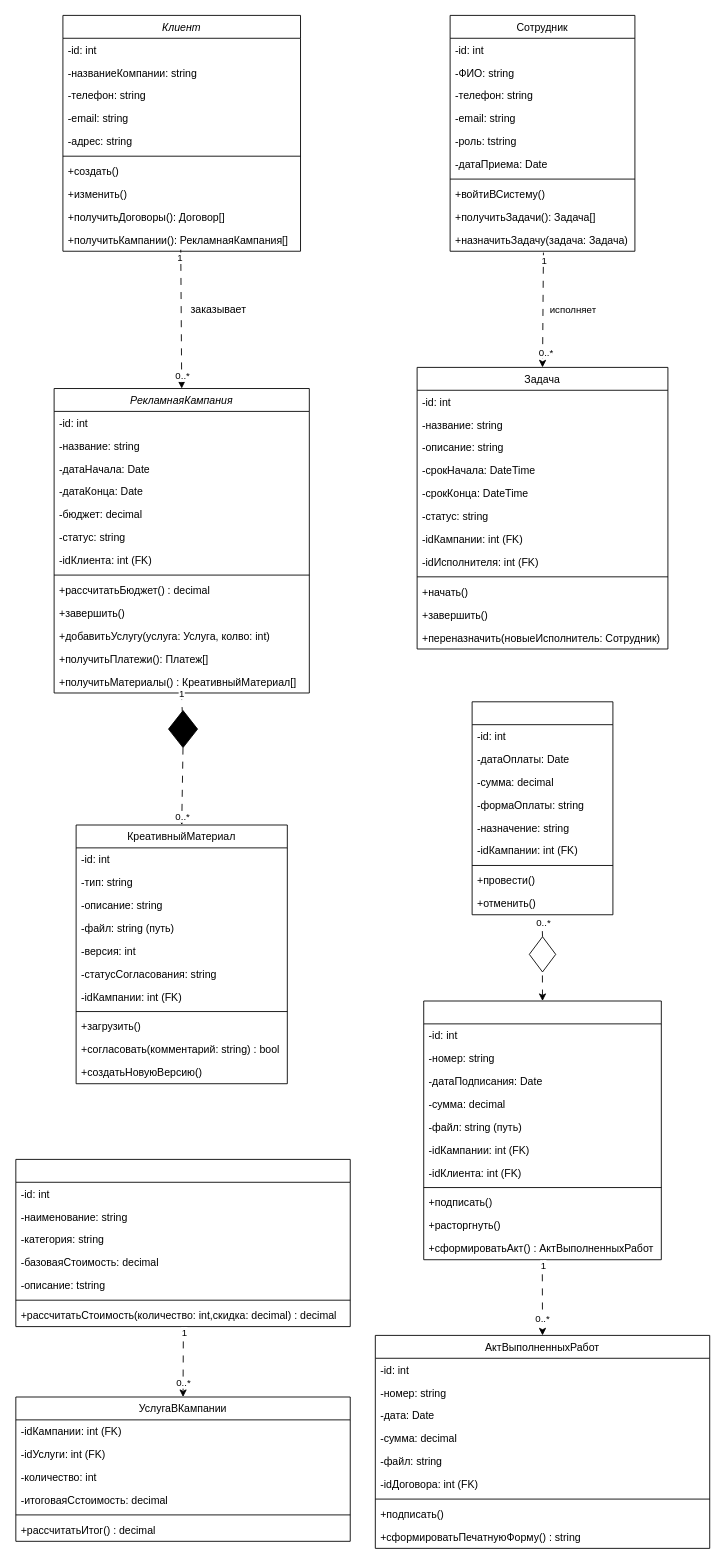
The diagram is 725 pixels wide and 1566 high, and some of its shapes have lost their labels. The box of each missing label's shape, as (x1, y1, x2, y2) in pixels:
Договор: (423, 1000, 661, 1260)
Платеж: (471, 701, 613, 915)
Услуга: (15, 1159, 350, 1327)
